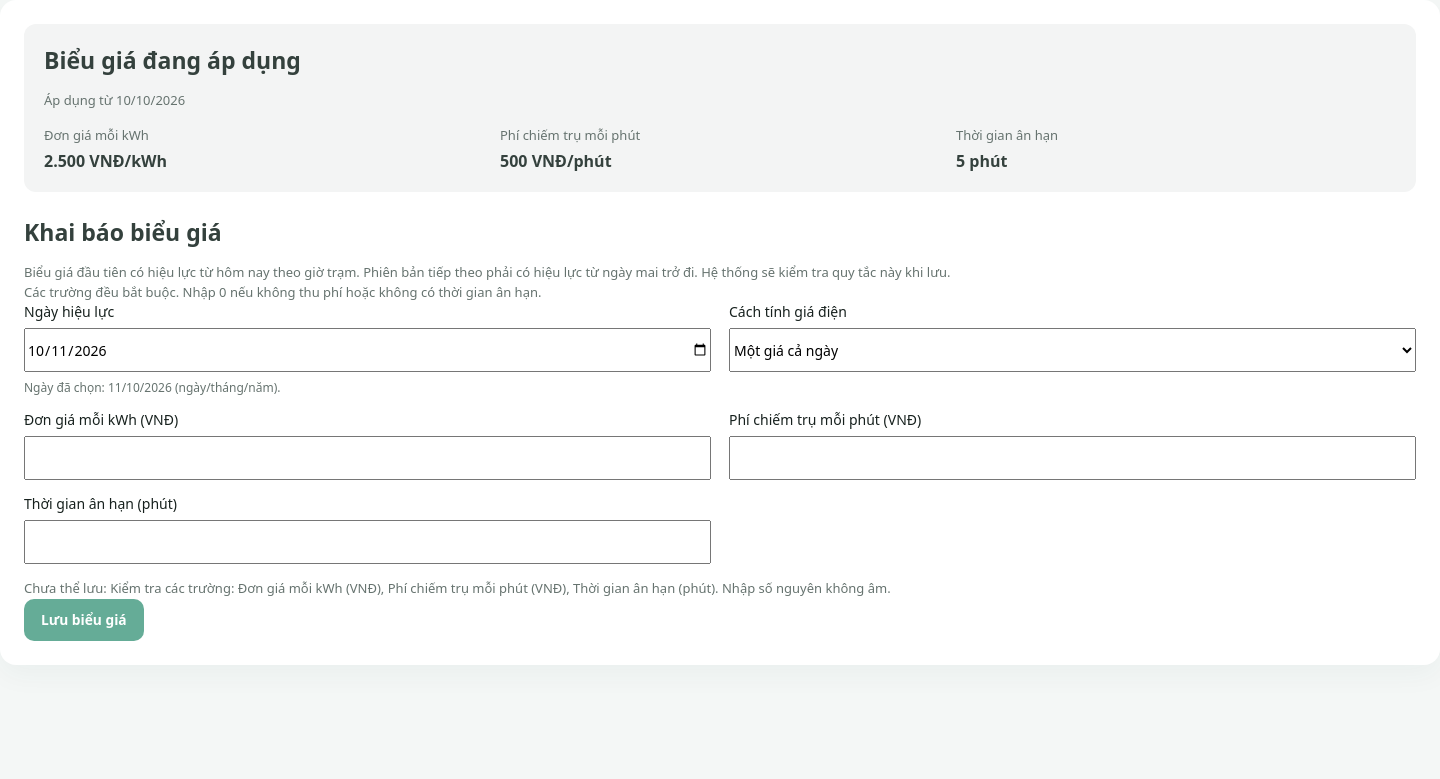
Test case: keeps current tariff when a future version is created and shows upcoming separately
This screenshot has width=1440, height=779.
Check: the text "2.500 VNĐ/kWh" is shown, box [44,150,167,172]
Check: the date field labelled "Ngày hiệu lực" holds "2026-10-11", box [24,328,711,372]
Type "3500" into the field labelled "Đơn giá mỗi kWh (VNĐ)".
click(368, 458); type("3500")  # box [24,436,711,480]
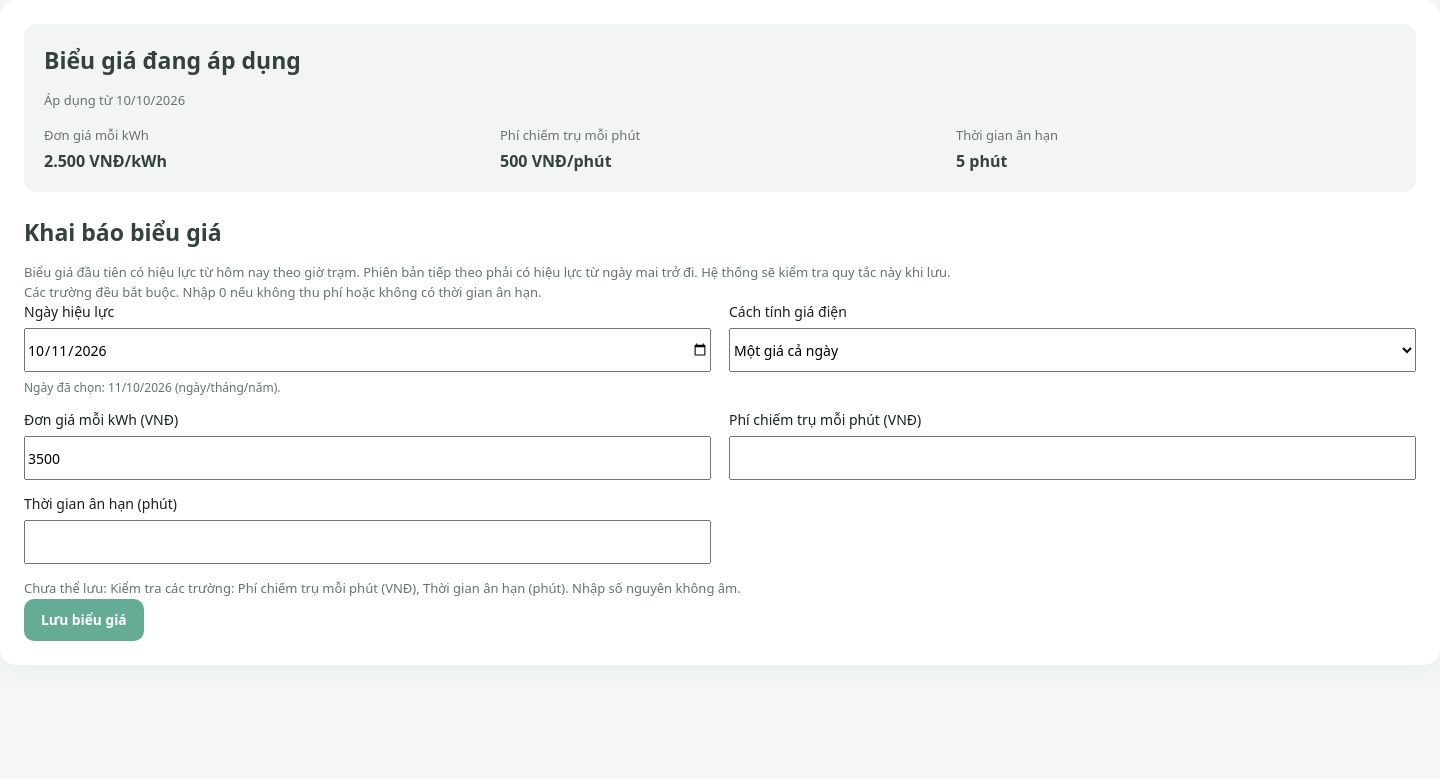
Type "500" into the field labelled "Phí chiếm trụ mỗi phút (VNĐ)".
click(1072, 458); type("500")  # box [729,436,1416,480]
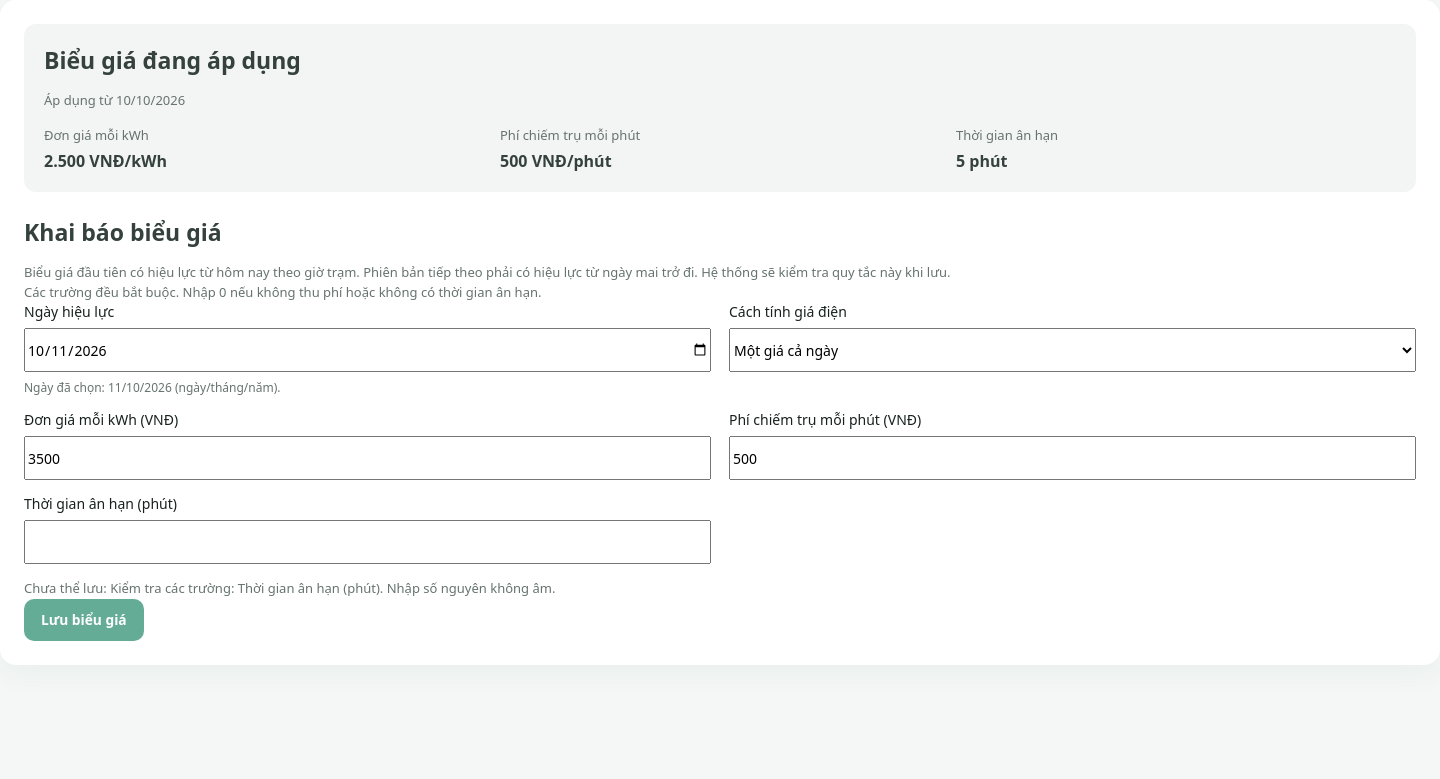
Type "5" into the field labelled "Thời gian ân hạn (phút)".
click(368, 542); type("5")  # box [24,520,711,564]
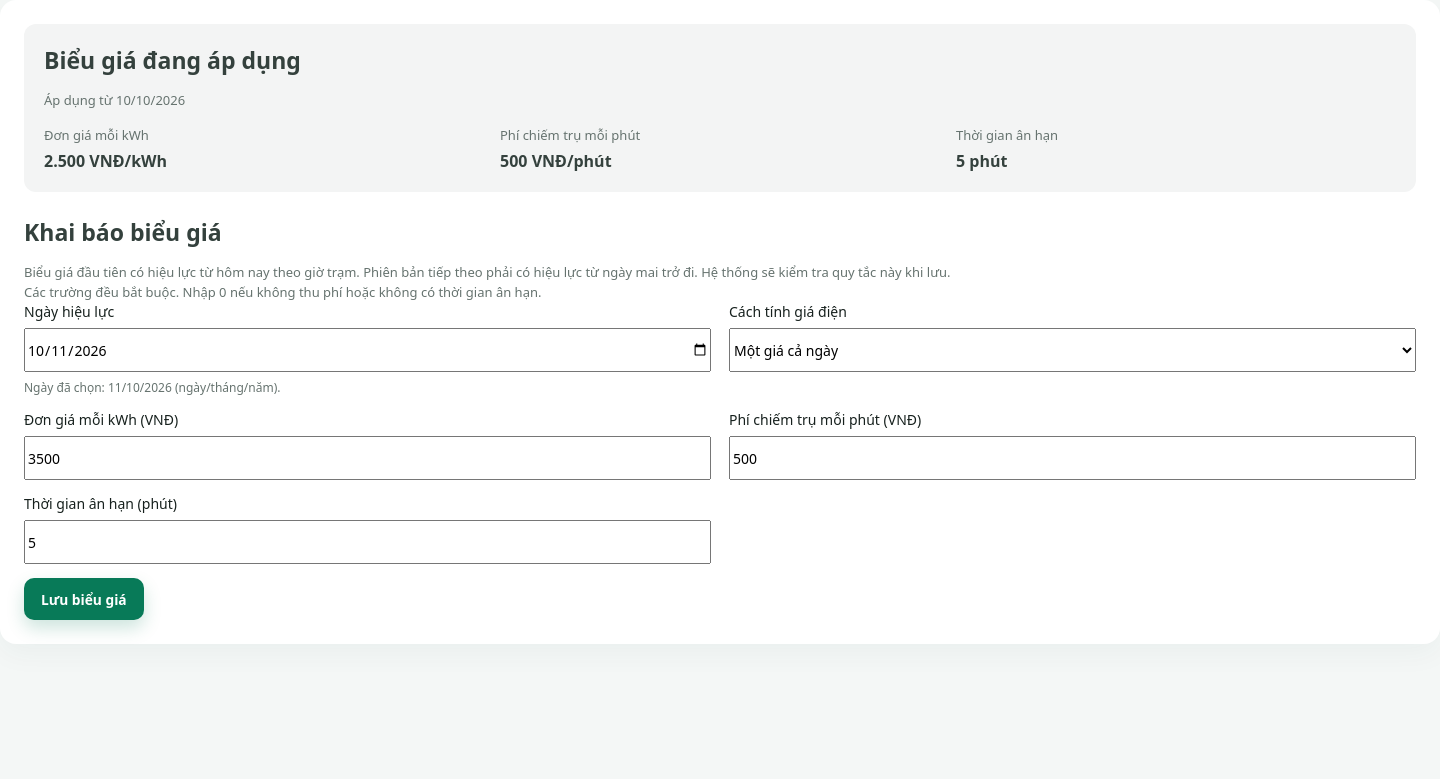
Click the button "Lưu biểu giá".
click(84, 599)  # box [24,578,144,620]
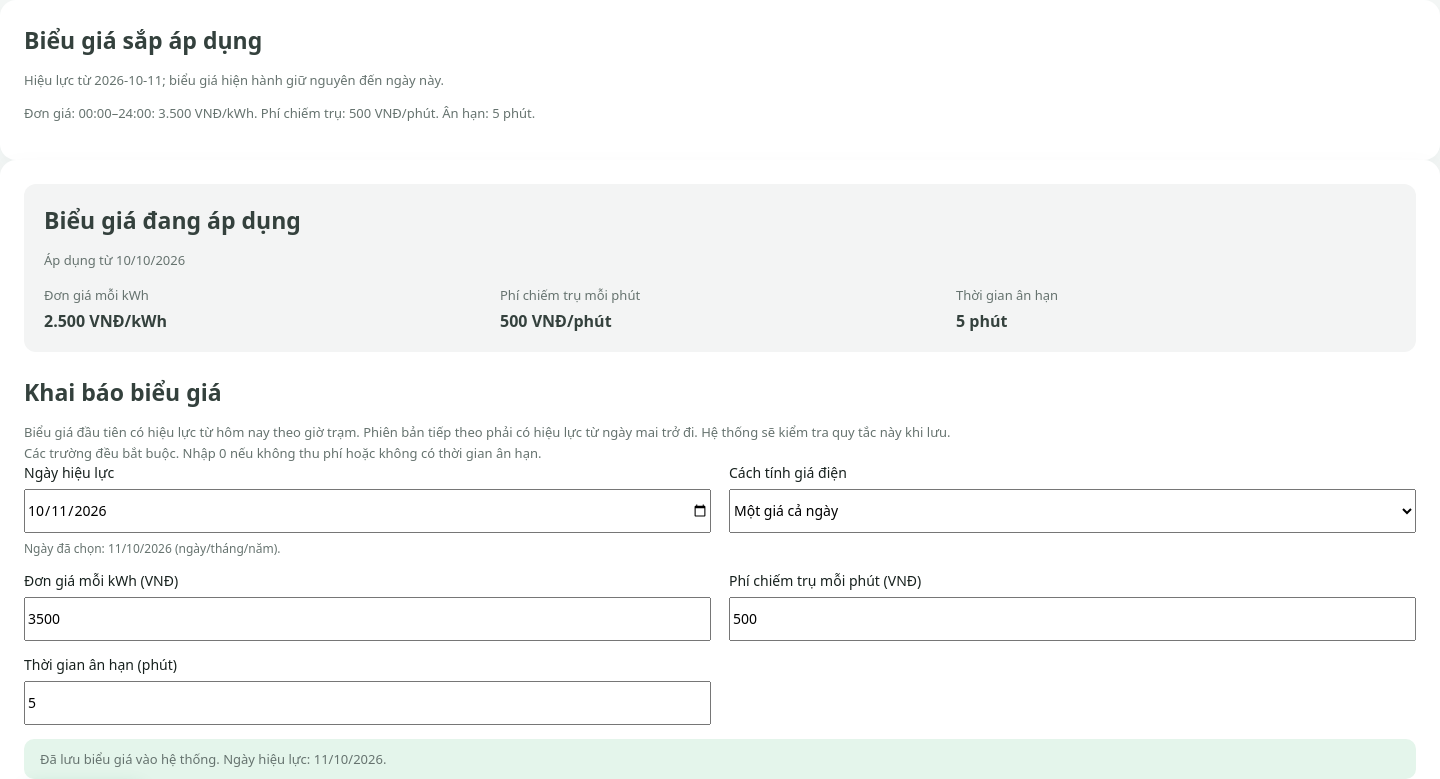
Check: the text "2.500 VNĐ/kWh" is shown, box [44,310,167,332]
Check: the text "3.500 VNĐ/kWh" is shown, box [78,104,254,122]
